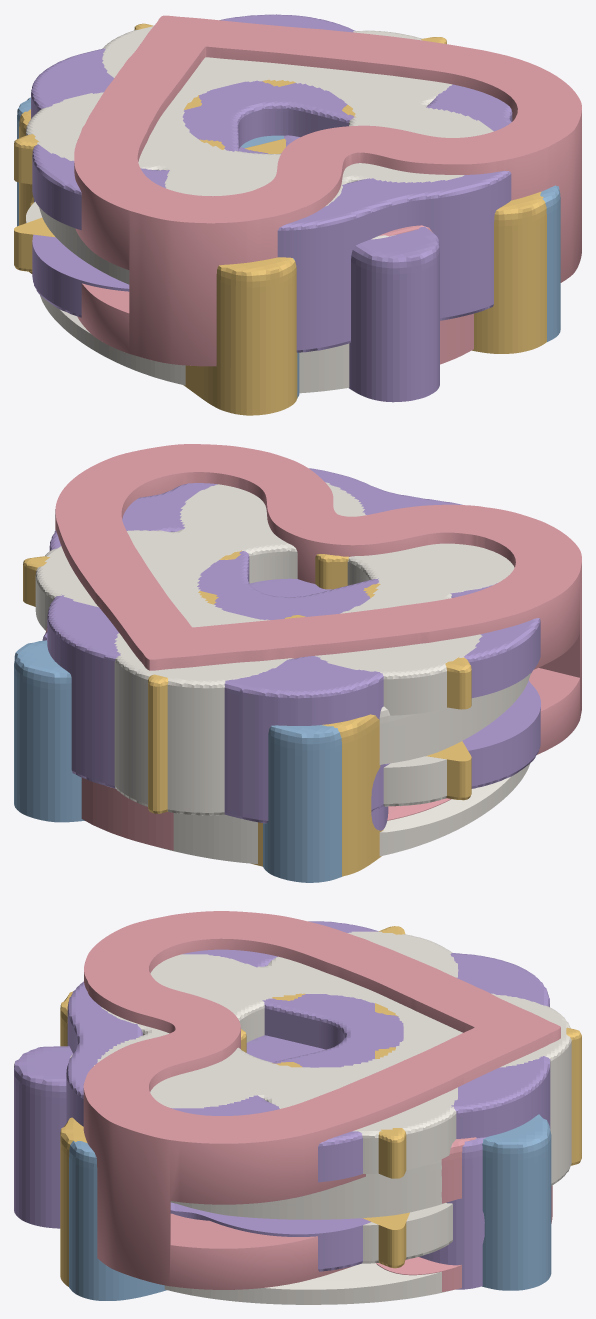
Rendered from loose_charms.glb.
3 views of the same model, one above another, from view 1: azimuth 30°, elevation 25°; view 2: azimuth 150°, elevation 25°; view 3: azimuth 270°, elevation 25° (orthographic). The views are drawn at different scales.
Visible parts, largest first — view 1: Charm_Loose_Heart, Charm_Loose_Paw, Charm_Loose_R, Charm_Loose_Flower, Charm_Loose_Y, Charm_Loose_O, Charm_Loose_K, Charm_Loose_Star, Charm_Loose_C; view 2: Charm_Loose_Heart, Charm_Loose_Flower, Charm_Loose_Paw, Charm_Loose_K, Charm_Loose_O, Charm_Loose_Star, Charm_Loose_R, Charm_Loose_C, Charm_Loose_Y; view 3: Charm_Loose_Heart, Charm_Loose_Flower, Charm_Loose_Paw, Charm_Loose_K, Charm_Loose_Y, Charm_Loose_O, Charm_Loose_Star, Charm_Loose_C, Charm_Loose_R.
Boxes of the visible parts, box(x1,y1,x2,y2) form: Charm_Loose_Heart: box(74, 15, 581, 366); Charm_Loose_Paw: box(31, 14, 512, 352); Charm_Loose_R: box(19, 109, 546, 415); Charm_Loose_Flower: box(26, 25, 493, 222); Charm_Loose_Y: box(239, 135, 439, 402); Charm_Loose_O: box(39, 207, 395, 393); Charm_Loose_K: box(17, 97, 560, 397); Charm_Loose_Star: box(14, 23, 446, 271); Charm_Loose_C: box(379, 225, 473, 364); Charm_Loose_Heart: box(55, 444, 581, 754); Charm_Loose_Flower: box(35, 482, 514, 815); Charm_Loose_Paw: box(47, 468, 540, 823); Charm_Loose_K: box(14, 640, 341, 882); Charm_Loose_O: box(159, 673, 530, 863); Charm_Loose_Star: box(23, 550, 471, 813); Charm_Loose_R: box(251, 714, 383, 876); Charm_Loose_C: box(45, 626, 451, 850); Charm_Loose_Y: box(42, 578, 388, 830); Charm_Loose_Heart: box(83, 911, 560, 1289); Charm_Loose_Flower: box(94, 931, 571, 1263); Charm_Loose_Paw: box(66, 921, 550, 1271); Charm_Loose_K: box(69, 1114, 551, 1300); Charm_Loose_Y: box(14, 1035, 485, 1289); Charm_Loose_O: box(70, 1054, 448, 1304); Charm_Loose_Star: box(241, 926, 581, 1268); Charm_Loose_C: box(376, 1137, 552, 1291); Charm_Loose_R: box(60, 991, 87, 1286).
Bounding box in the file's own units: 0.8636 × 0.3231 × 0.8801.
